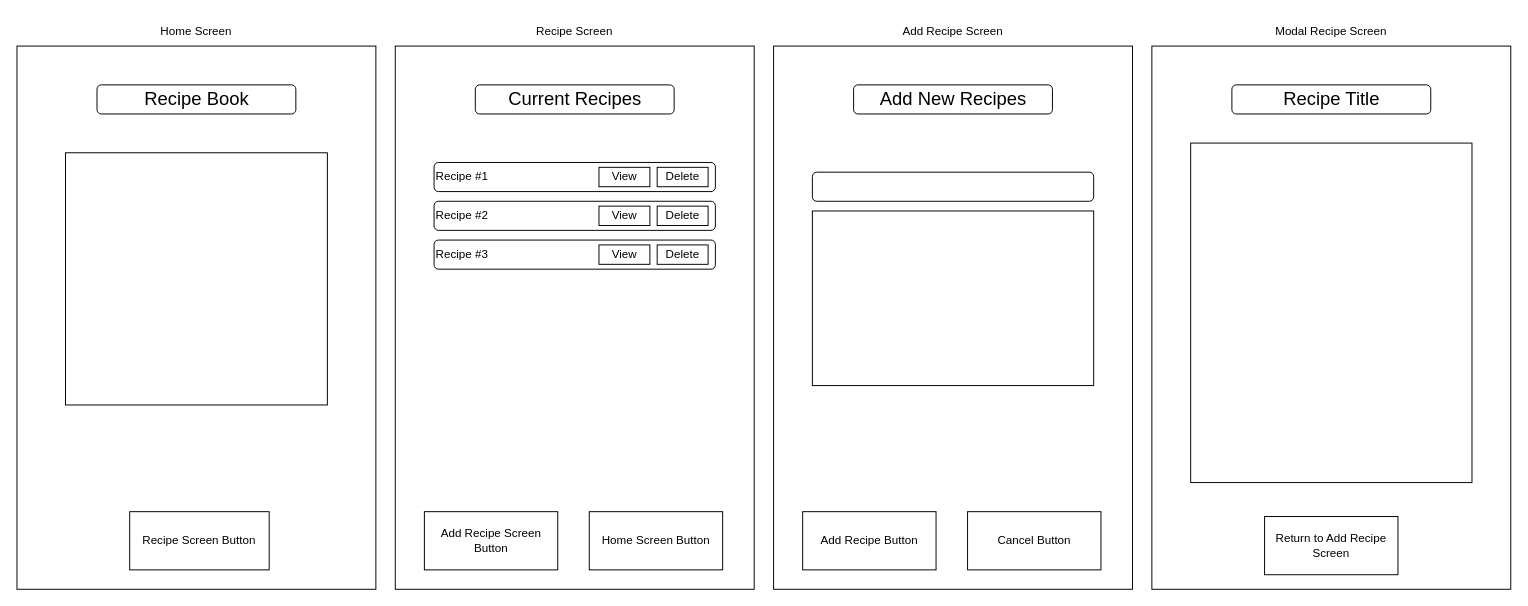
This 1528x606 diagram has some shape labels left out. The centre of each missing label's shape, as x and y in pixels:
Recipe book cover: (196,278)
Recipe Text: (1331,312)
Recipe Text Here: (952,298)
Recipe Title Here: (952,186)
